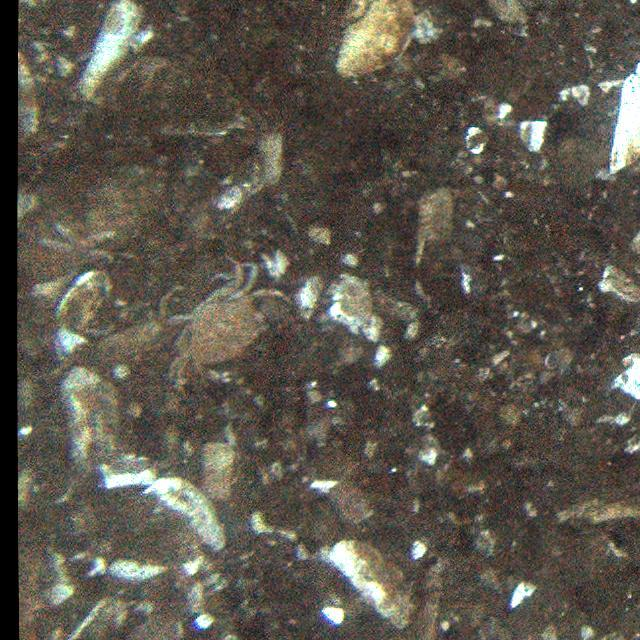crab: (161, 258, 281, 374)
